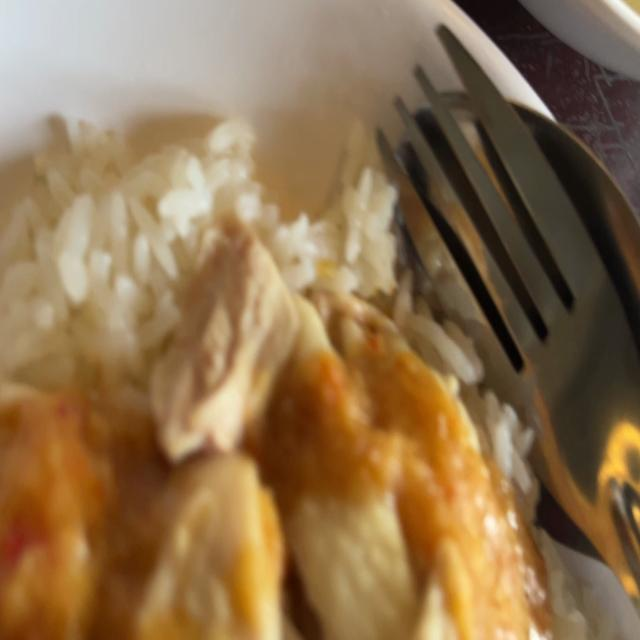boiled_chicken: (13, 238, 465, 640)
chicken_rice: (0, 57, 588, 640)
